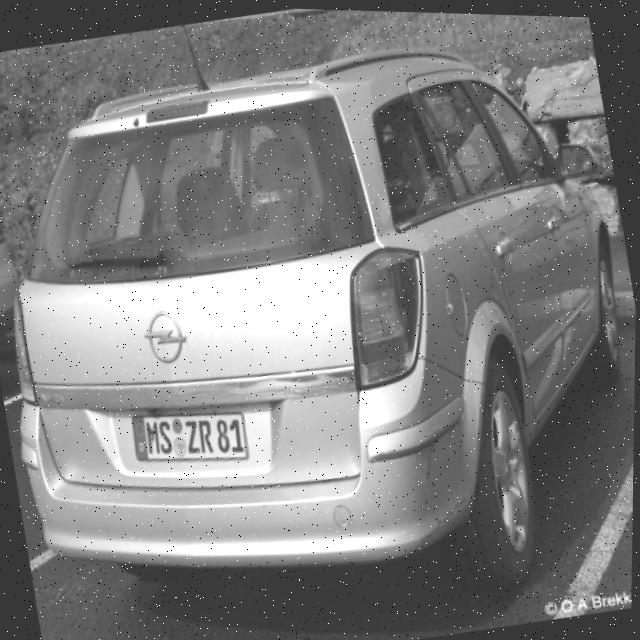license-plates: (131, 414, 248, 461)
